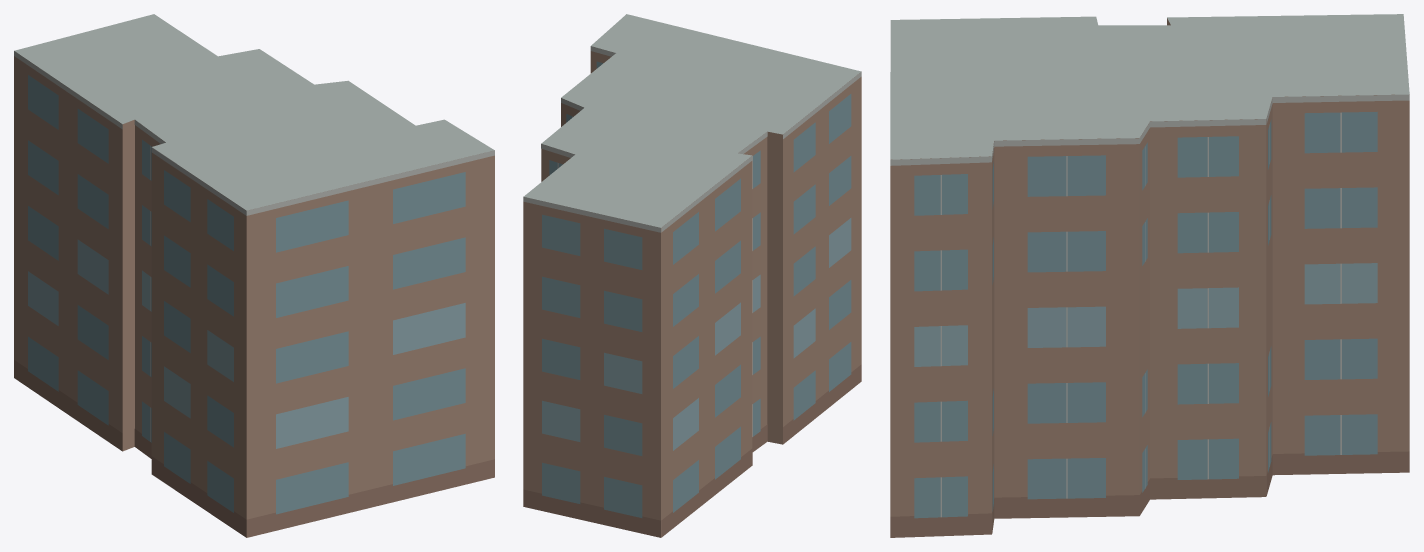
Rendered from survey-upis-33011292.glb.
3 views of the same model, side by side, from view 1: azimuth 30°, elevation 25°; view 2: azimuth 150°, elevation 25°; view 3: azimuth 270°, elevation 25° (orthographic). The views are drawn at different scales.
Parts seen in each view (by area): view 1: survey-upis-33011292.tmp; view 2: survey-upis-33011292.tmp; view 3: survey-upis-33011292.tmp.
Boxes of the visible parts, x1,y1,x2,y2 form: survey-upis-33011292.tmp: (14,14,494,537); survey-upis-33011292.tmp: (523,14,861,537); survey-upis-33011292.tmp: (890,14,1409,537).
Size of the model in its own units: 12.62 by 15.25 by 19.
